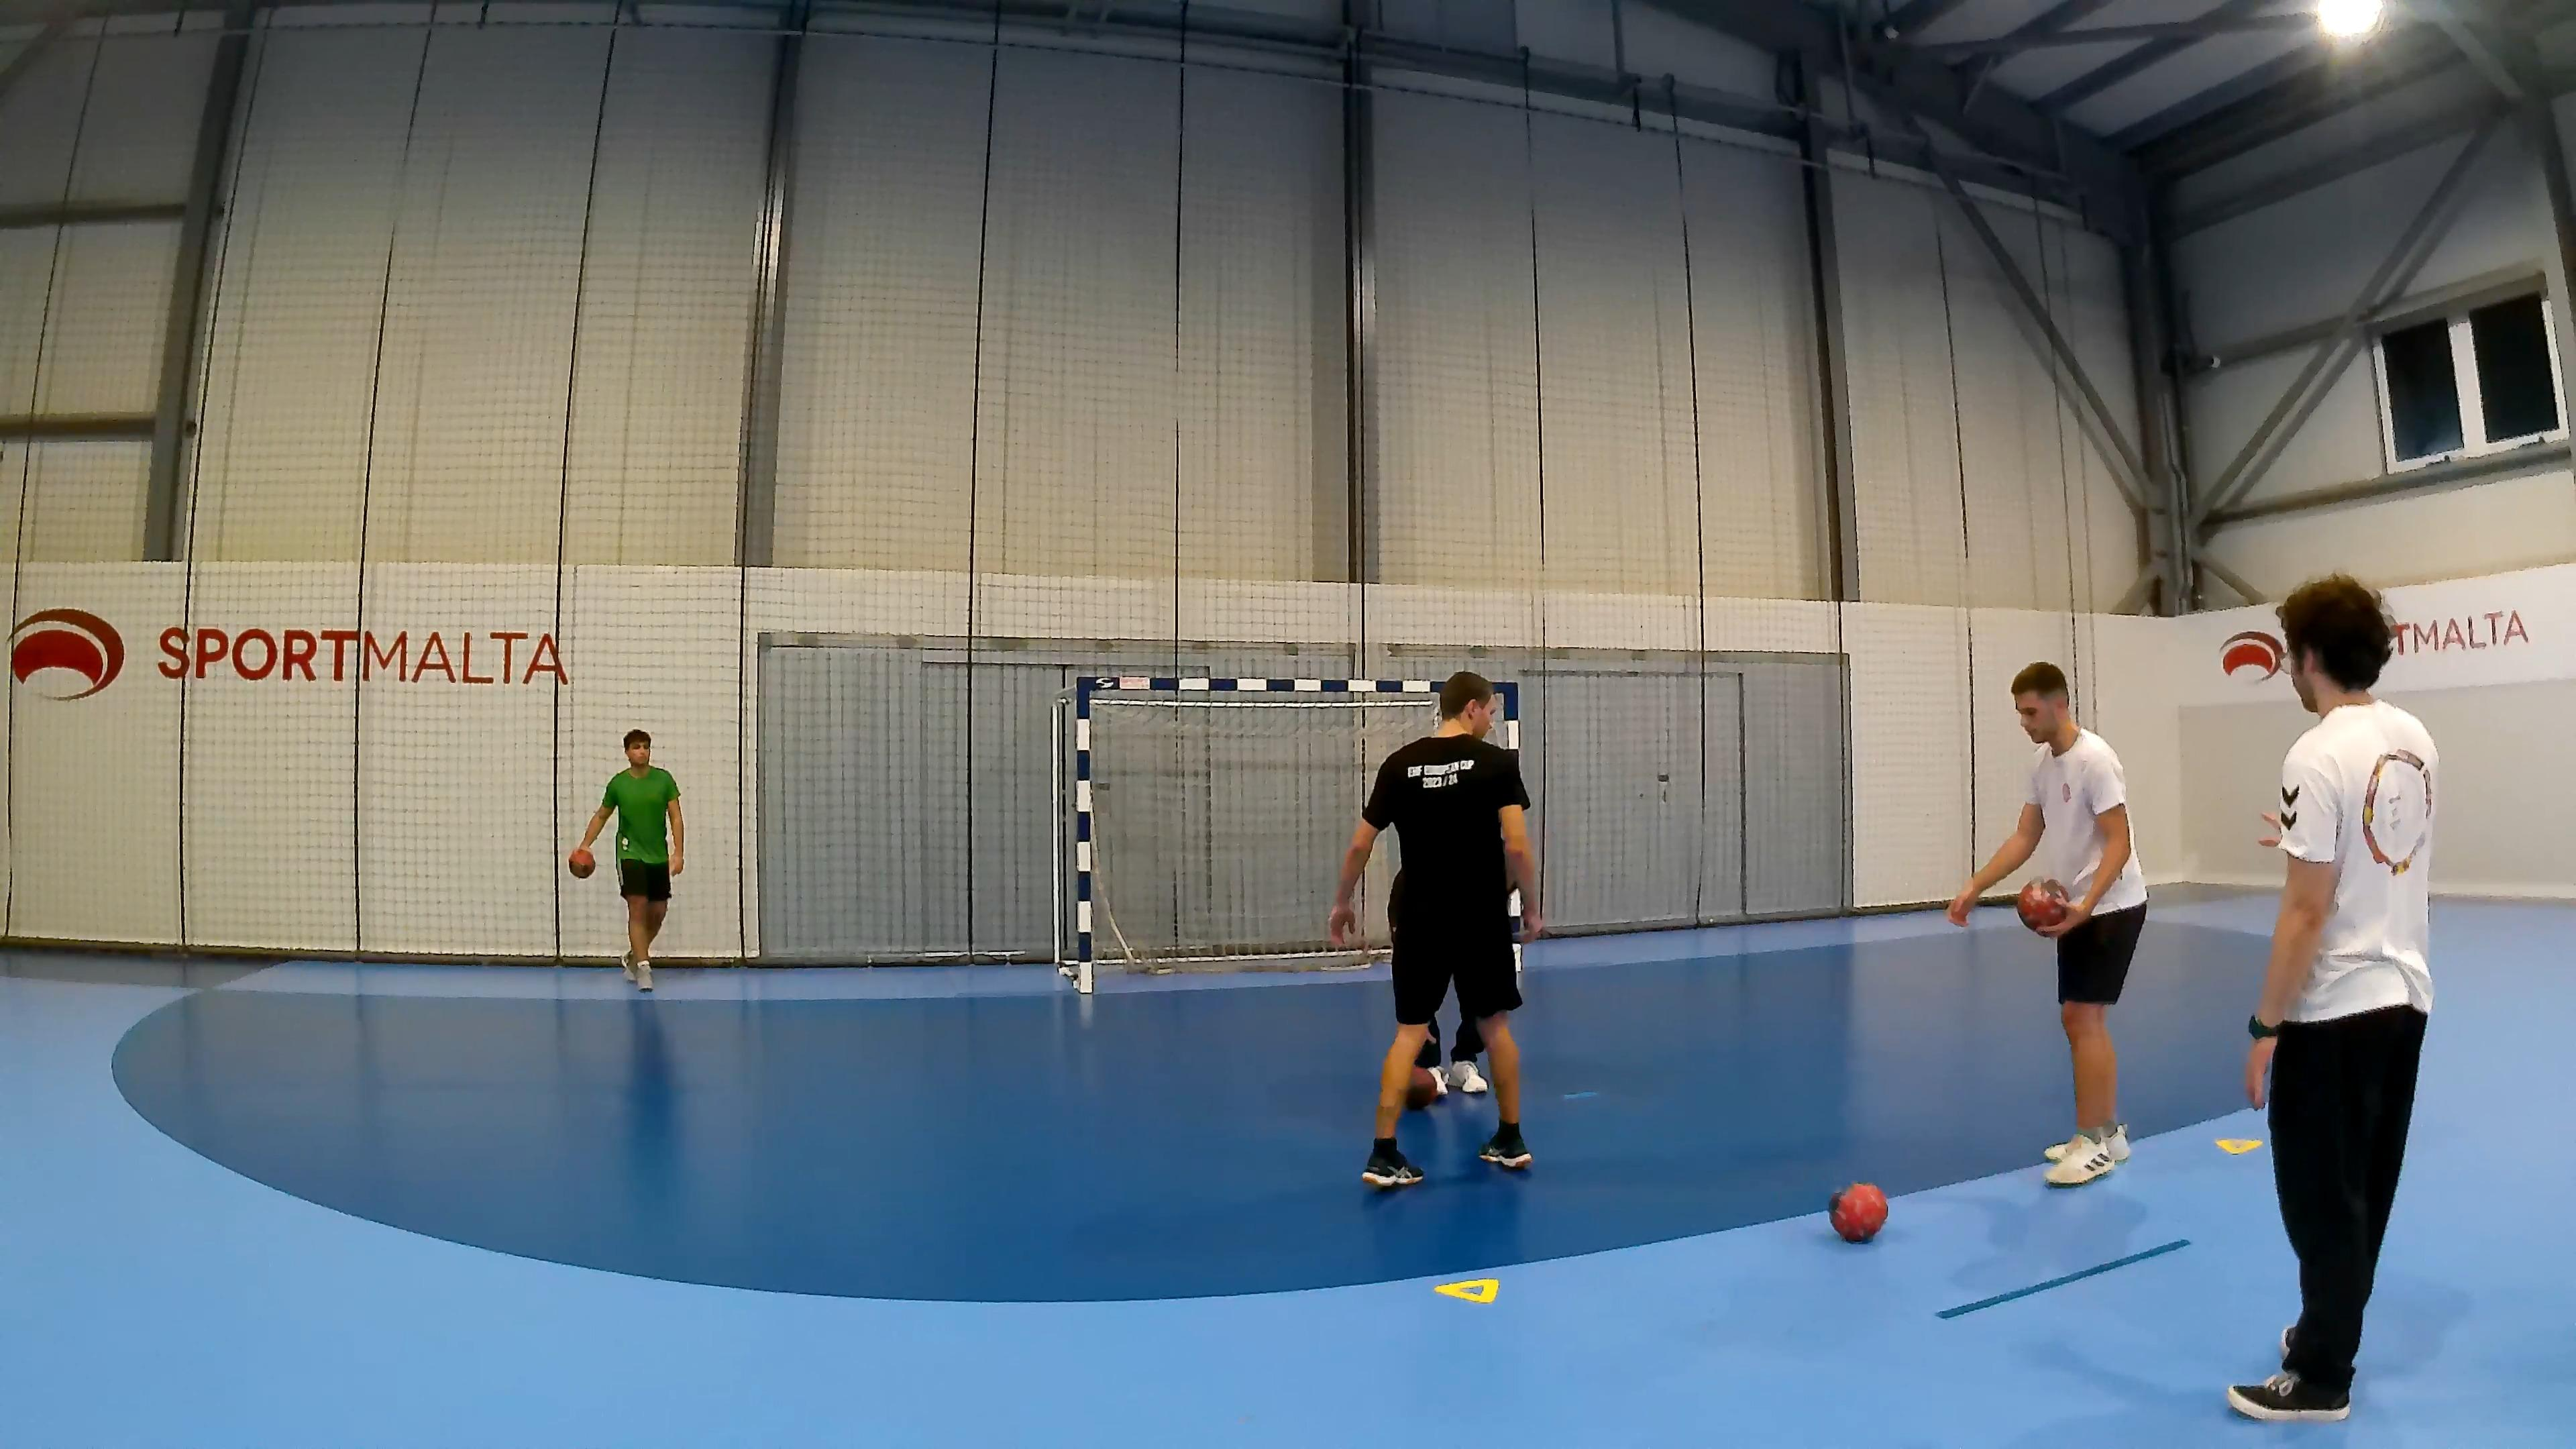handball: (1828, 1180, 1888, 1242), (2015, 876, 2068, 932), (1398, 1065, 1438, 1113), (563, 846, 610, 883)
